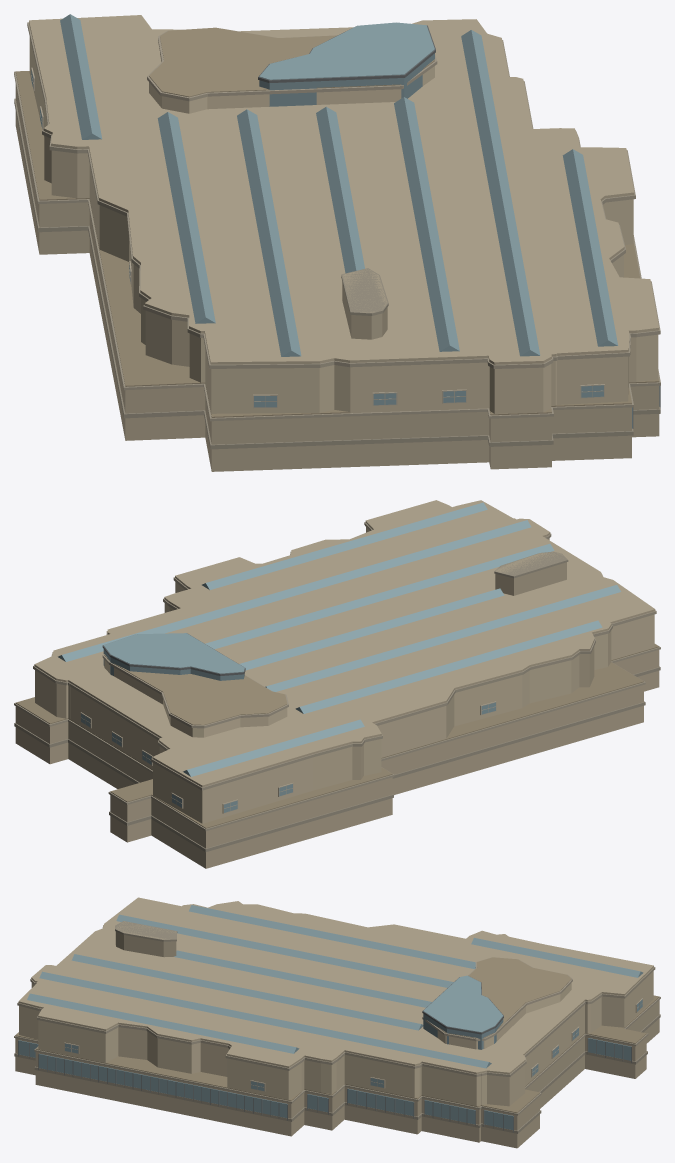
File: virginia-museum-of-fine-arts.glb
3 renders of one model, top to bottom at view 1: azimuth 30°, elevation 25°; view 2: azimuth 150°, elevation 25°; view 3: azimuth 270°, elevation 25°, orthographic. The views are drawn at different scales.
Visible parts, largest first — view 1: base; view 2: base; view 3: base.
Boxes of the visible parts, x1,y1,x2,y2 form: base: [14, 14, 660, 471]; base: [14, 500, 660, 868]; base: [14, 897, 660, 1148].
Size of the model in its own units: 124 by 26.1 by 175.
